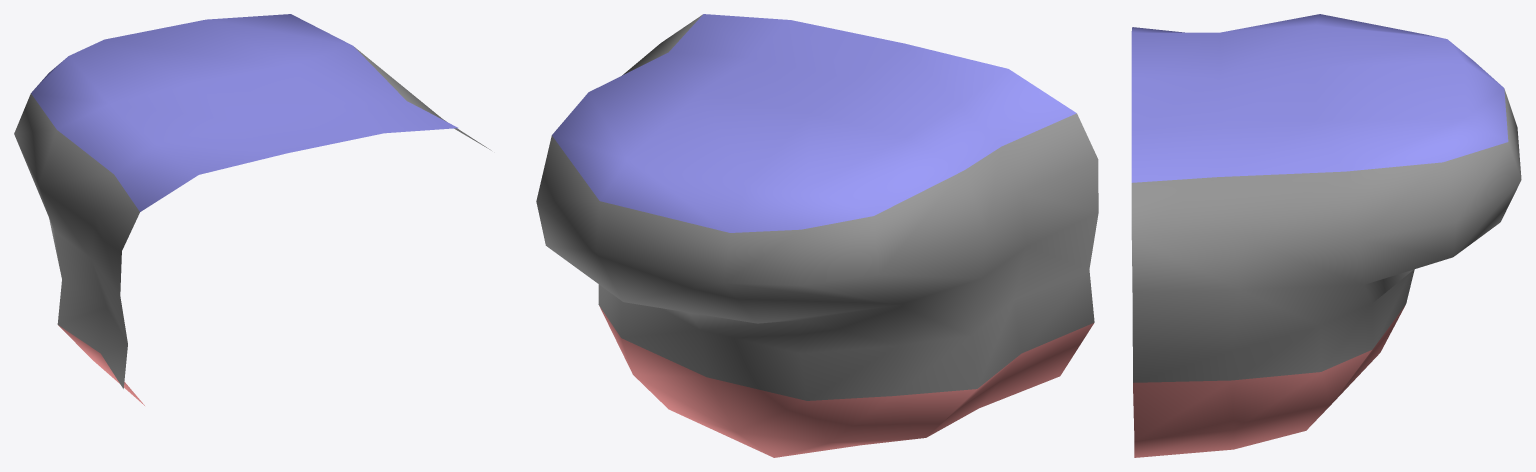
Rendered from waterfall_rock_3.gltf.
The picture shows the model from 3 angles, left to right: view 1: azimuth 30°, elevation 25°; view 2: azimuth 150°, elevation 25°; view 3: azimuth 270°, elevation 25°; orthographic projection. The views are drawn at different scales.
Visible parts, largest first — view 1: waterfall_rock_3; view 2: waterfall_rock_3; view 3: waterfall_rock_3.
Part boxes in pixels (x1,y1,x2,y2): waterfall_rock_3: (14, 14, 491, 405); waterfall_rock_3: (536, 14, 1098, 457); waterfall_rock_3: (1131, 14, 1521, 457).
Bounding box in the file's own units: 10.92 × 8.55 × 9.19.
